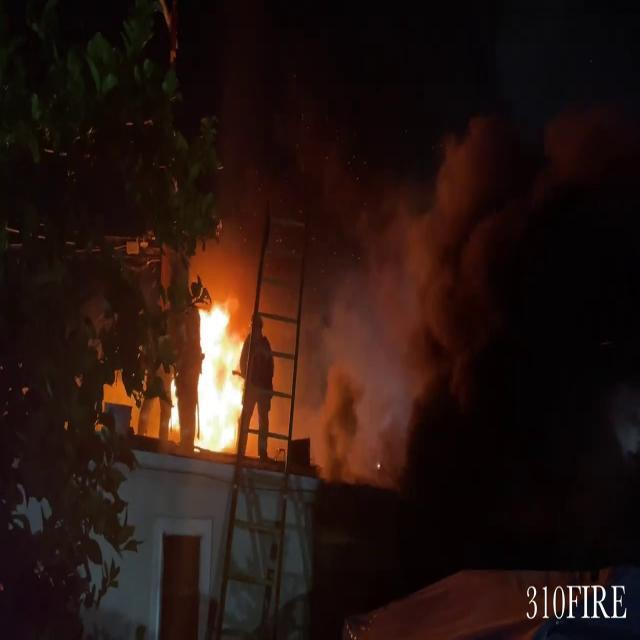Fire: (174, 291, 254, 458)
Smoke: (266, 110, 492, 444)
